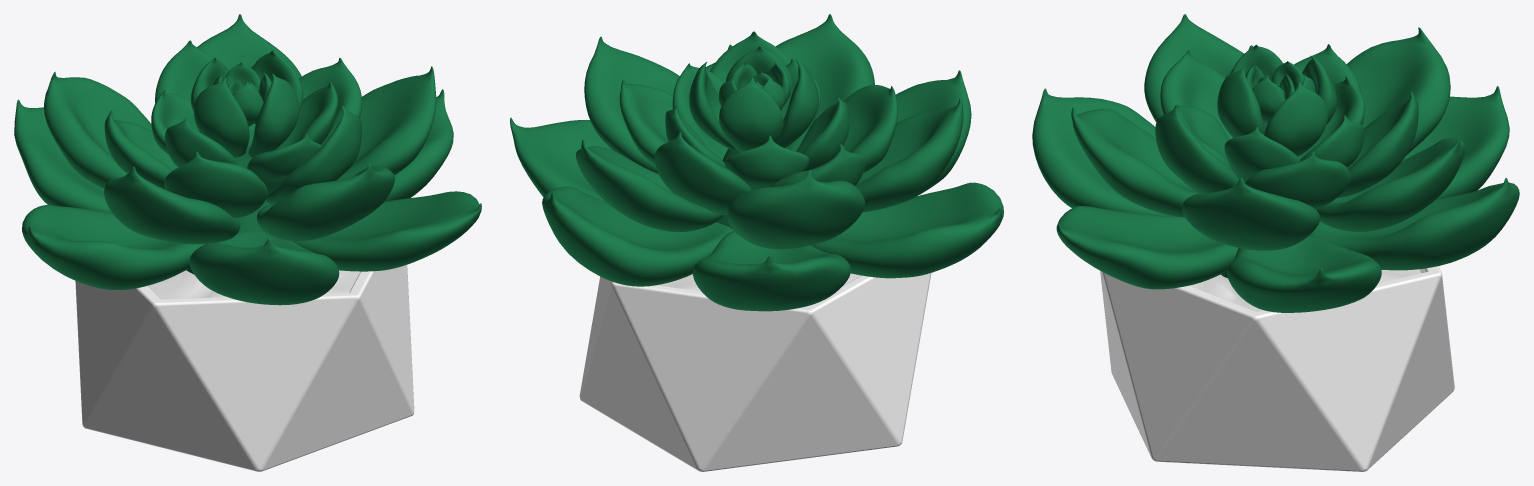
Rendered from cactus2.fbx.
The picture shows the model from 3 angles, left to right: view 1: azimuth 30°, elevation 25°; view 2: azimuth 150°, elevation 25°; view 3: azimuth 270°, elevation 25°; orthographic projection. The views are drawn at different scales.
Parts seen in each view (by area): view 1: succulent plant, Succulent plant, ground real; view 2: succulent plant, Succulent plant; view 3: succulent plant, Succulent plant, ground real.
Boxes of the visible parts, <box> form: succulent plant: <box>14,14,481,305</box>; Succulent plant: <box>75,265,414,471</box>; ground real: <box>147,270,359,299</box>; succulent plant: <box>510,14,1003,311</box>; Succulent plant: <box>579,273,931,471</box>; succulent plant: <box>1032,14,1519,312</box>; Succulent plant: <box>1100,266,1454,471</box>; ground real: <box>1190,269,1420,311</box>.
Bounding box in the file's own units: 14.58 × 10.43 × 13.25.
